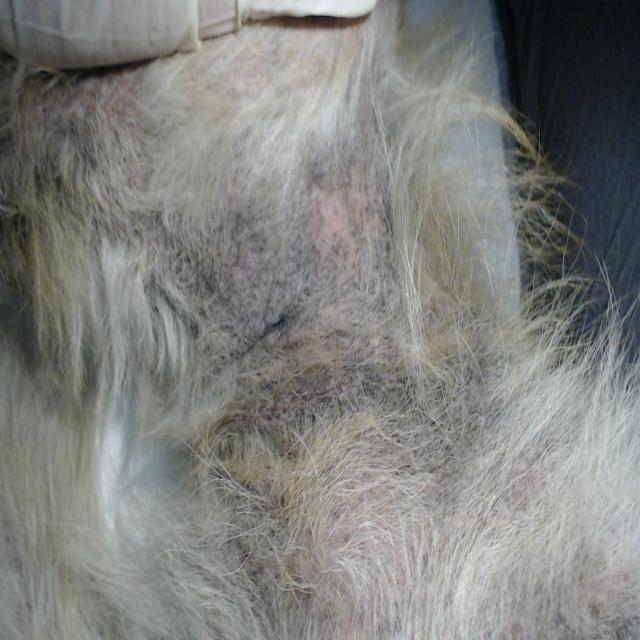demodicosis: (277, 165, 410, 384)
